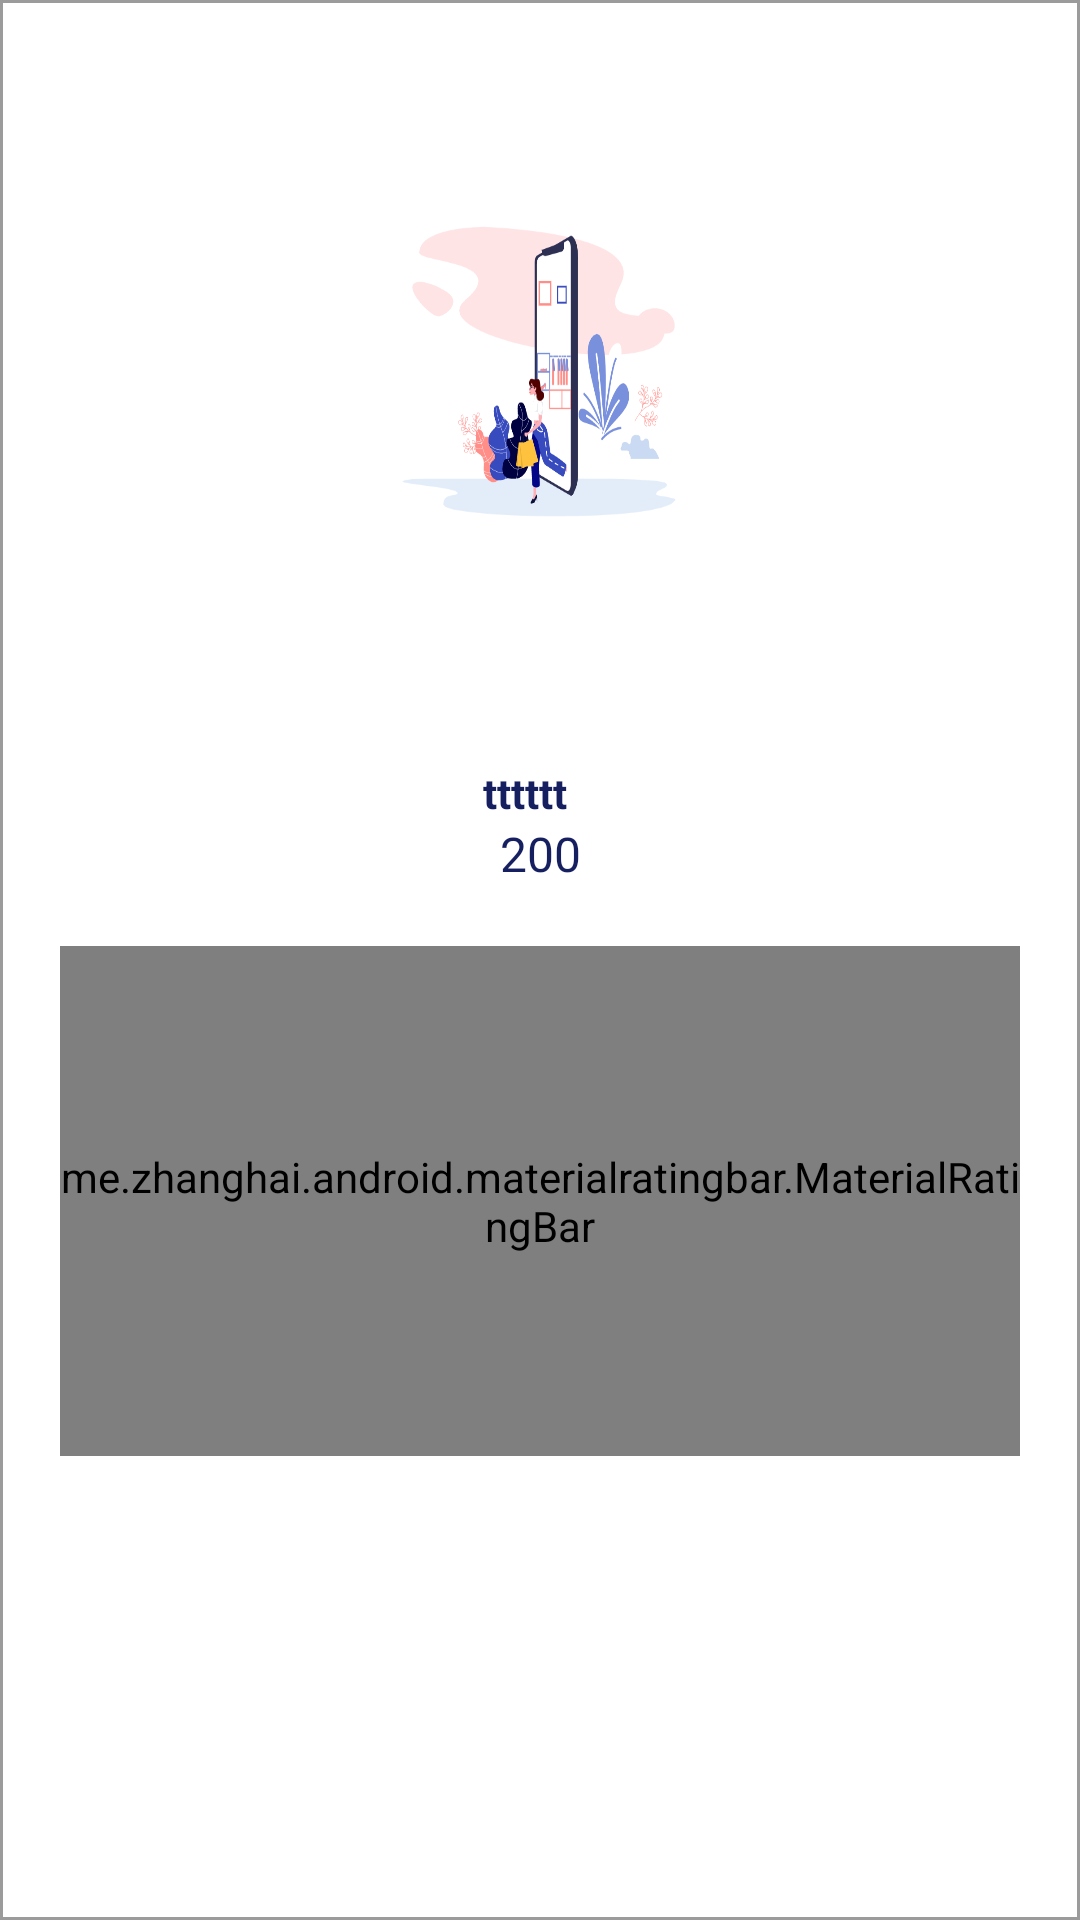

Icons on this 1080*1920 Android screen, each with its box as BBox(x1, y1, x2, y2):
seeshop: BBox(403, 227, 675, 516)
